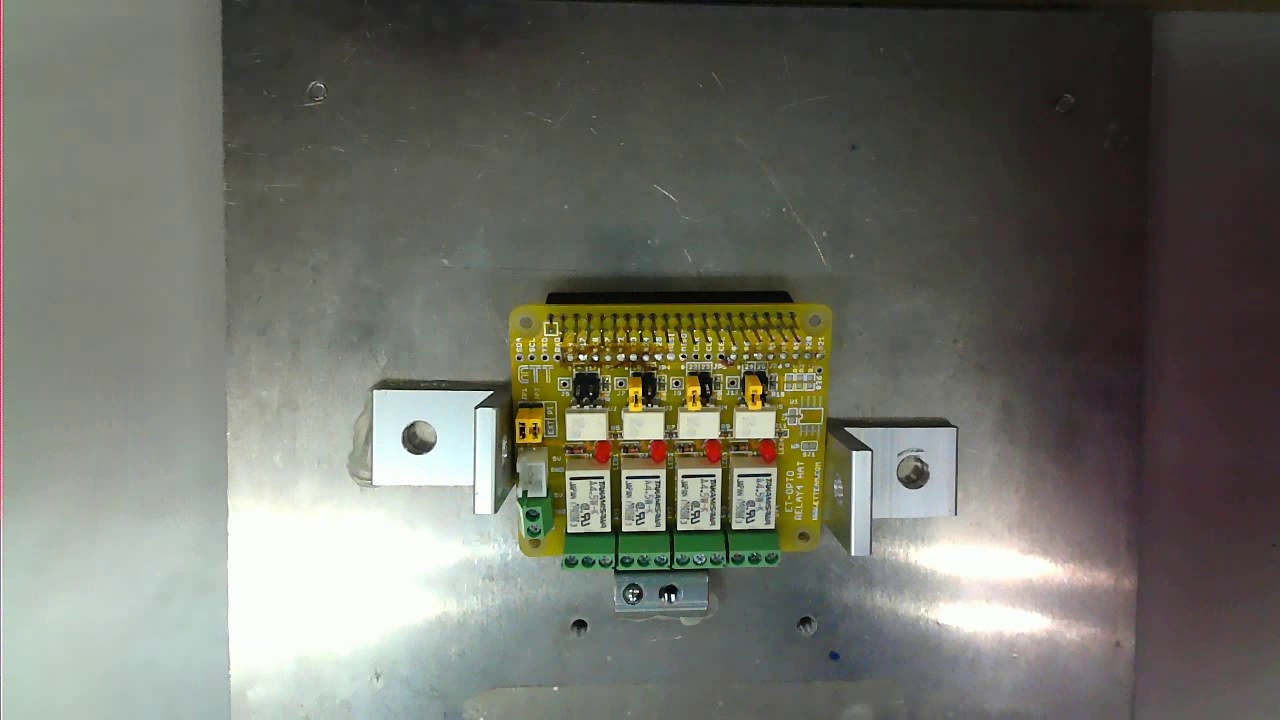can: (494, 295, 838, 574)
